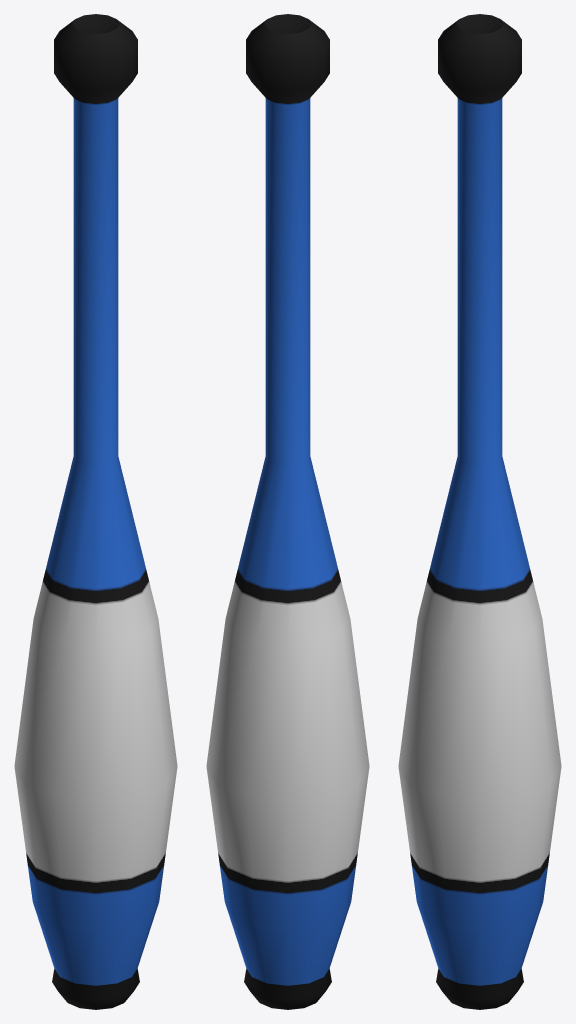
File: Pinblue.fbx
3 views of the same model, side by side, from view 1: azimuth 30°, elevation 25°; view 2: azimuth 150°, elevation 25°; view 3: azimuth 270°, elevation 25° (orthographic).
Parts seen in each view (by area): view 1: Pin_Blue; view 2: Pin_Blue; view 3: Pin_Blue.
Part boxes in pixels (x1,y1,x2,y2): Pin_Blue: (14, 14, 177, 1009); Pin_Blue: (206, 14, 369, 1009); Pin_Blue: (398, 14, 561, 1009).
Bounding box in the file's own units: 14.29 × 93.97 × 14.29.
